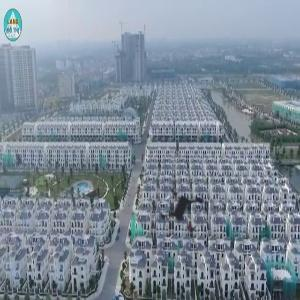drone: (125, 156, 236, 267)
